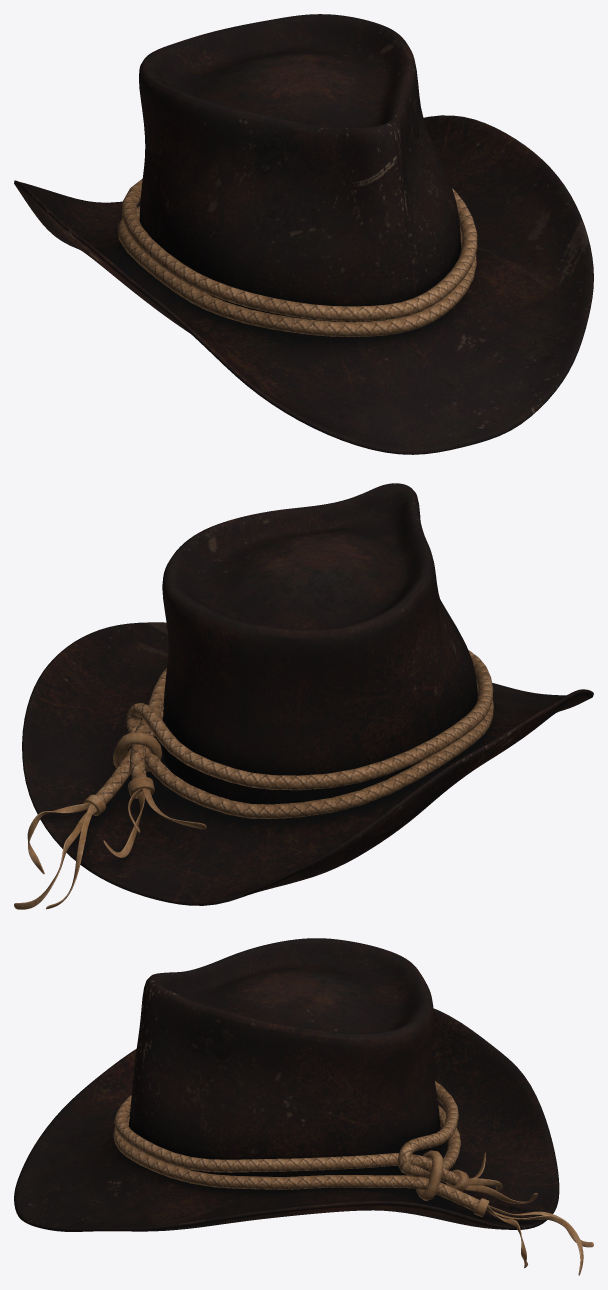
The model's file is rdr2_arthur_morgan_hat-highquality.glb.
3 renders of one model, top to bottom at view 1: azimuth 30°, elevation 25°; view 2: azimuth 150°, elevation 25°; view 3: azimuth 270°, elevation 25°, orthographic. The views are drawn at different scales.
Parts seen in each view (by area): view 1: ArthurMorganHat; view 2: ArthurMorganHat; view 3: ArthurMorganHat.
Boxes of the visible parts, left/top/right/bottom form: ArthurMorganHat: left=14, top=14, right=593, bottom=454; ArthurMorganHat: left=14, top=483, right=593, bottom=909; ArthurMorganHat: left=14, top=938, right=593, bottom=1275.
Size of the model in its own units: 61.15 by 36.39 by 79.92.
Materials: 1 (1 with a texture image).
